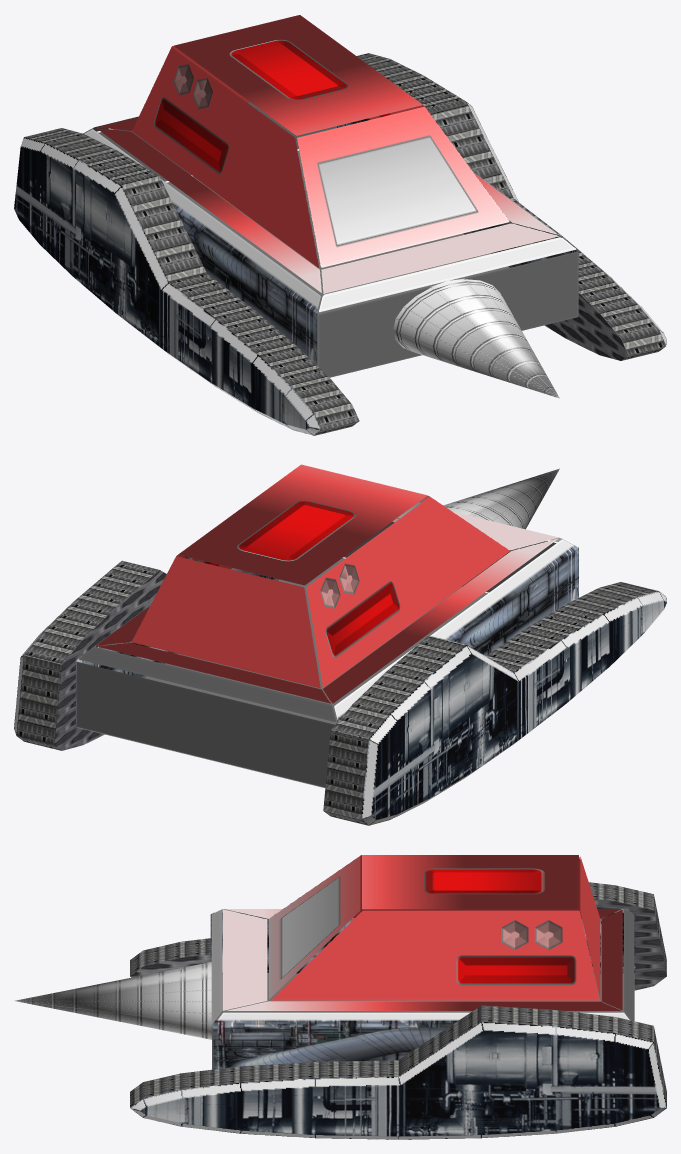
The model's file is CarBar.fbx.
3 views of the same model, one above another, from view 1: azimuth 30°, elevation 25°; view 2: azimuth 150°, elevation 25°; view 3: azimuth 270°, elevation 25° (orthographic). The views are drawn at different scales.
Parts seen in each view (by area): view 1: pCube1, pasted__pCylinder2, pasted__pCylinder1, pCone1; view 2: pCube1, pasted__pCylinder2, pasted__pCylinder1, pCone1; view 3: pCube1, pasted__pCylinder1, pCone1, pasted__pCylinder2.
Part boxes in pixels (x1=…): pCube1: x1=83, y1=15, x2=578, y2=377; pasted__pCylinder2: x1=14, y1=128, x2=359, y2=435; pasted__pCylinder1: x1=337, y1=53, x2=666, y2=360; pCone1: x1=393, y1=278, x2=559, y2=398; pCube1: x1=76, y1=464, x2=578, y2=787; pasted__pCylinder2: x1=323, y1=582, x2=666, y2=825; pasted__pCylinder1: x1=14, y1=560, x2=279, y2=750; pCone1: x1=443, y1=468, x2=559, y2=586; pCube1: x1=210, y1=855, x2=635, y2=1069; pasted__pCylinder1: x1=130, y1=1005, x2=666, y2=1139; pCone1: x1=14, y1=962, x2=211, y2=1039; pasted__pCylinder2: x1=130, y1=882, x2=666, y2=990.
Bounding box in the file's own units: 1.75 × 0.9686 × 3.14.
3 materials, 3 textured.
